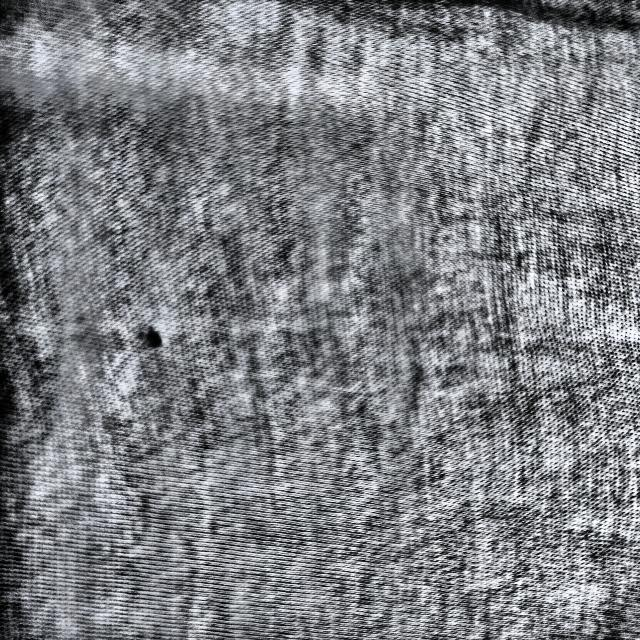Hole: (124, 314, 179, 358)
